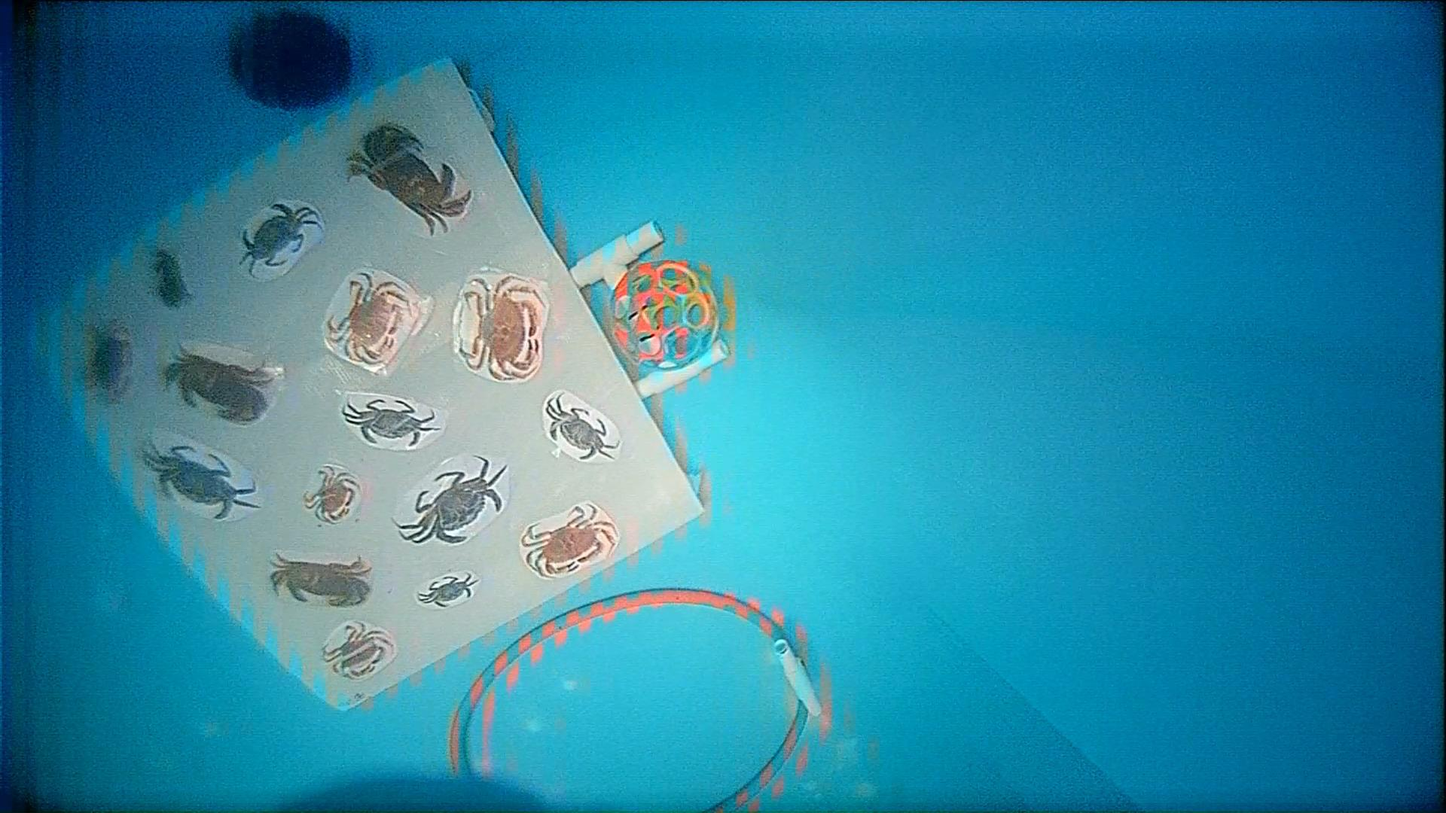GreenCrab: (397, 455, 506, 544), (143, 446, 259, 520), (243, 203, 320, 276), (545, 395, 619, 459), (343, 399, 439, 447)
